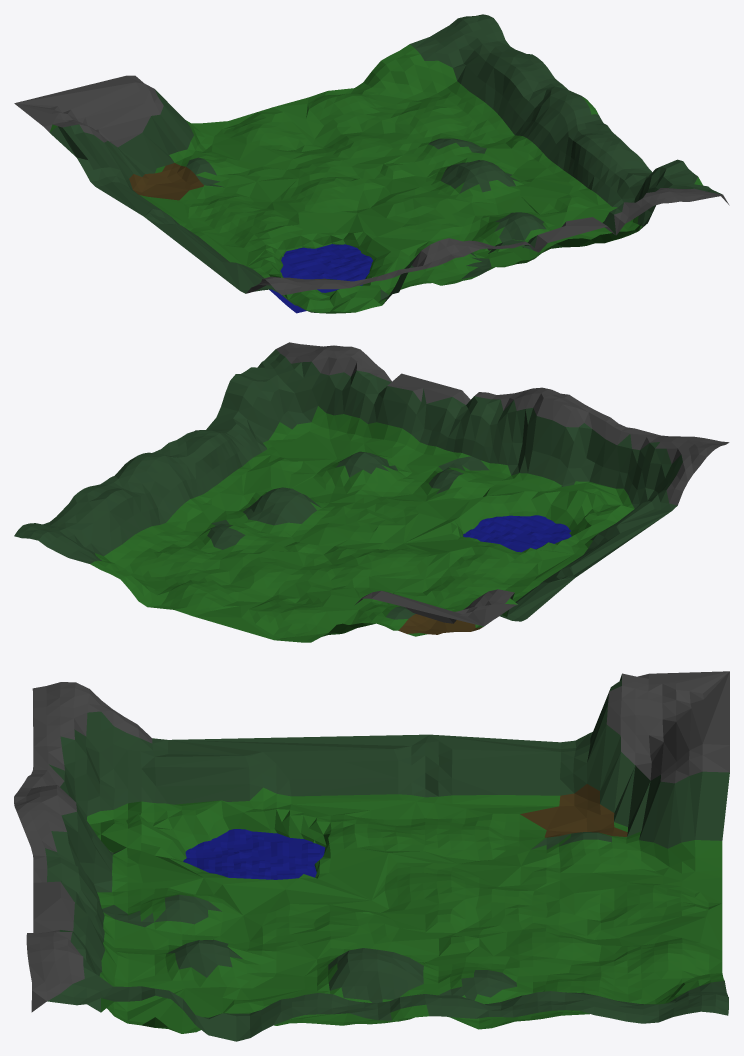
Rendered from NewTerr.fbx.
3 views of the same model, one above another, from view 1: azimuth 30°, elevation 25°; view 2: azimuth 150°, elevation 25°; view 3: azimuth 270°, elevation 25° (orthographic). The views are drawn at different scales.
Parts seen in each view (by area): view 1: Plane, WaterPlane; view 2: Plane, WaterPlane; view 3: Plane, WaterPlane.
Boxes of the visible parts, bbox=[...] form: Plane: bbox=[14, 14, 729, 313]; WaterPlane: bbox=[269, 244, 372, 313]; Plane: bbox=[14, 342, 729, 642]; WaterPlane: bbox=[463, 515, 571, 552]; Plane: bbox=[14, 671, 729, 1041]; WaterPlane: bbox=[183, 829, 325, 879].
Bounding box in the file's own units: 3908 × 702 × 3798.
